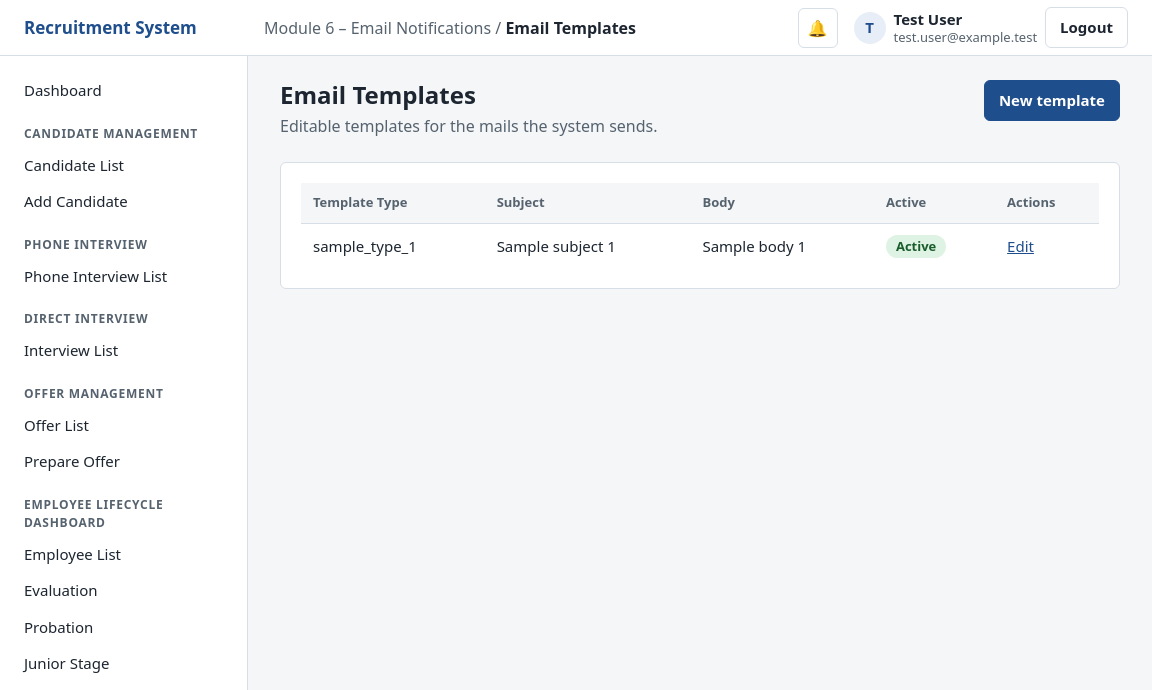
Scenario: email templates › edits an existing template
This screenshot has width=1152, height=690.
Expected: the text "sample_type_1" is shown, [301,224,485,268]
Click the button "Edit" at [1021, 246], box [1007,234,1034,257]
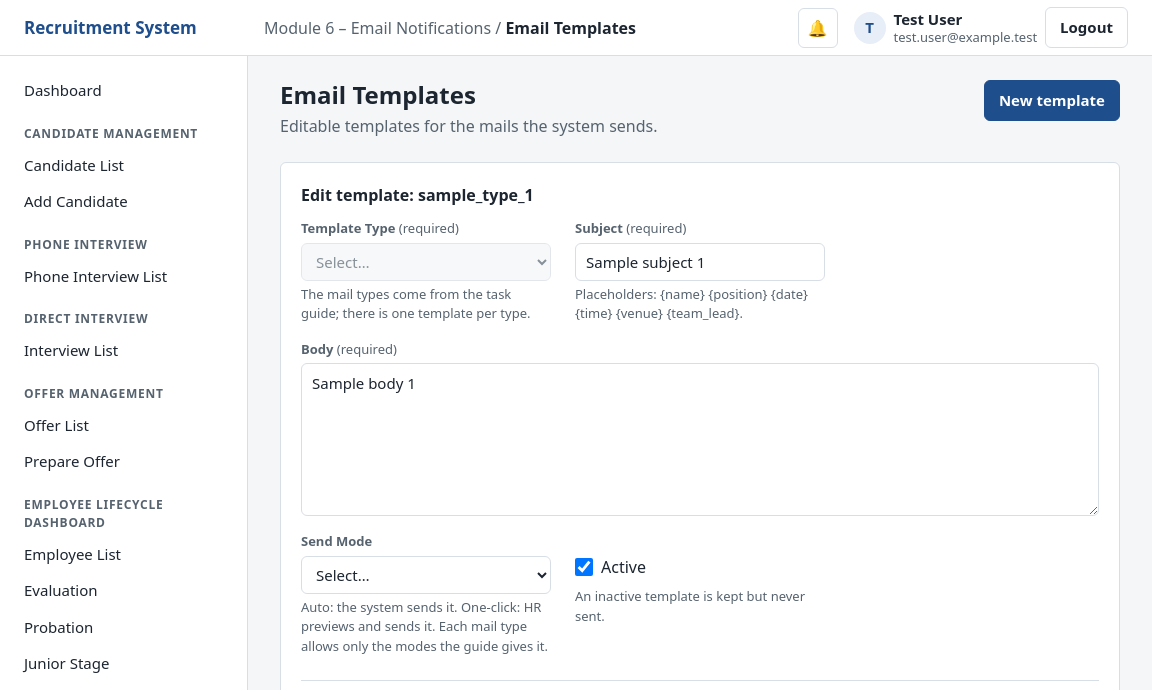
Now the field labelled "Subject (required)" holds "Sample subject 1"
Replace the text in the field labelled "Subject (required)" with "Changed subject" at [700, 262], box [575,242,825,280]
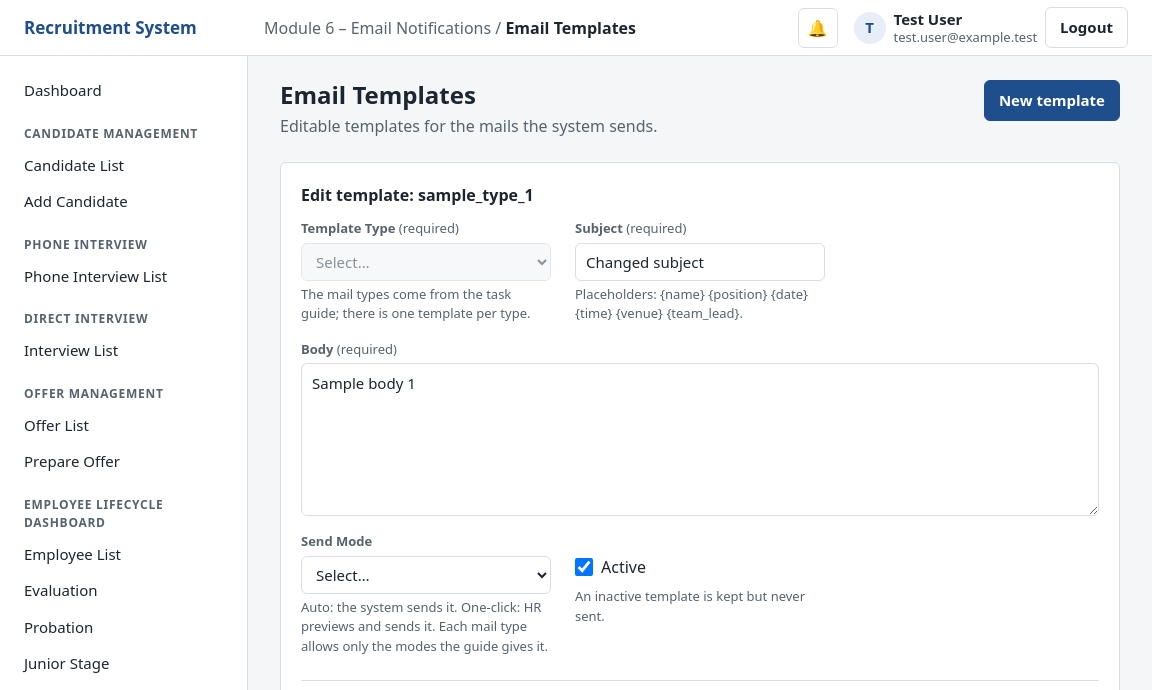
Click the checkbox labelled "Active" at [584, 567], box [575,558,593,576]
(page scrolled)
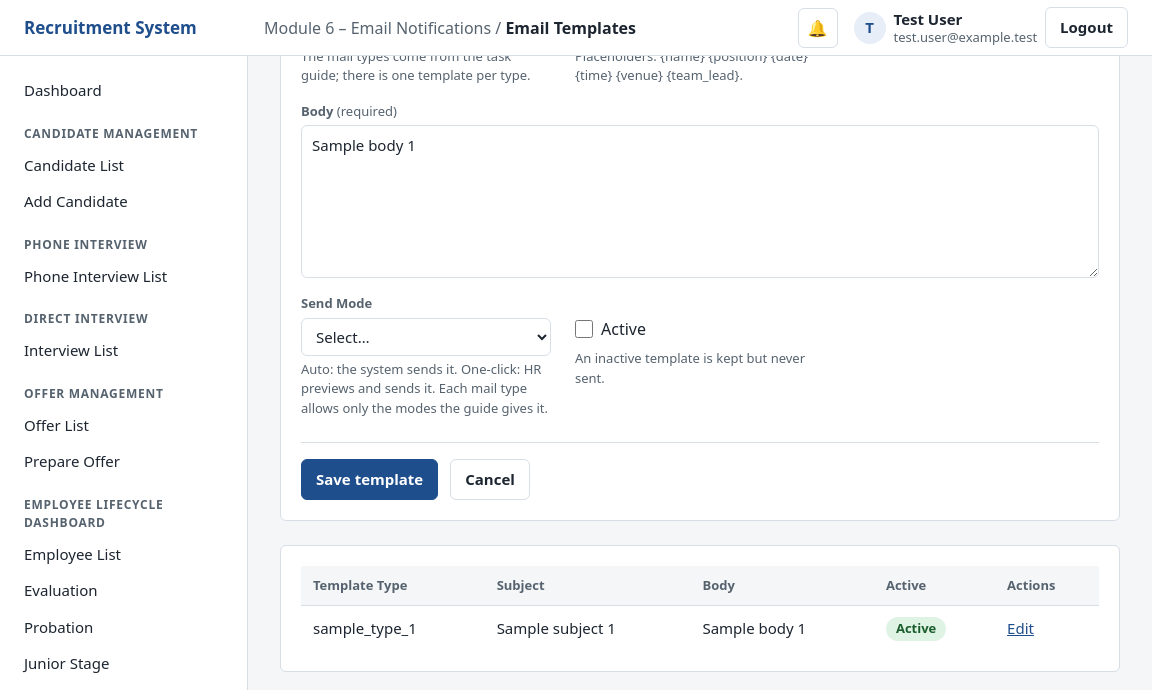
Click the button "Save template" at [370, 479], box [301,459,438,500]
(page scrolled)
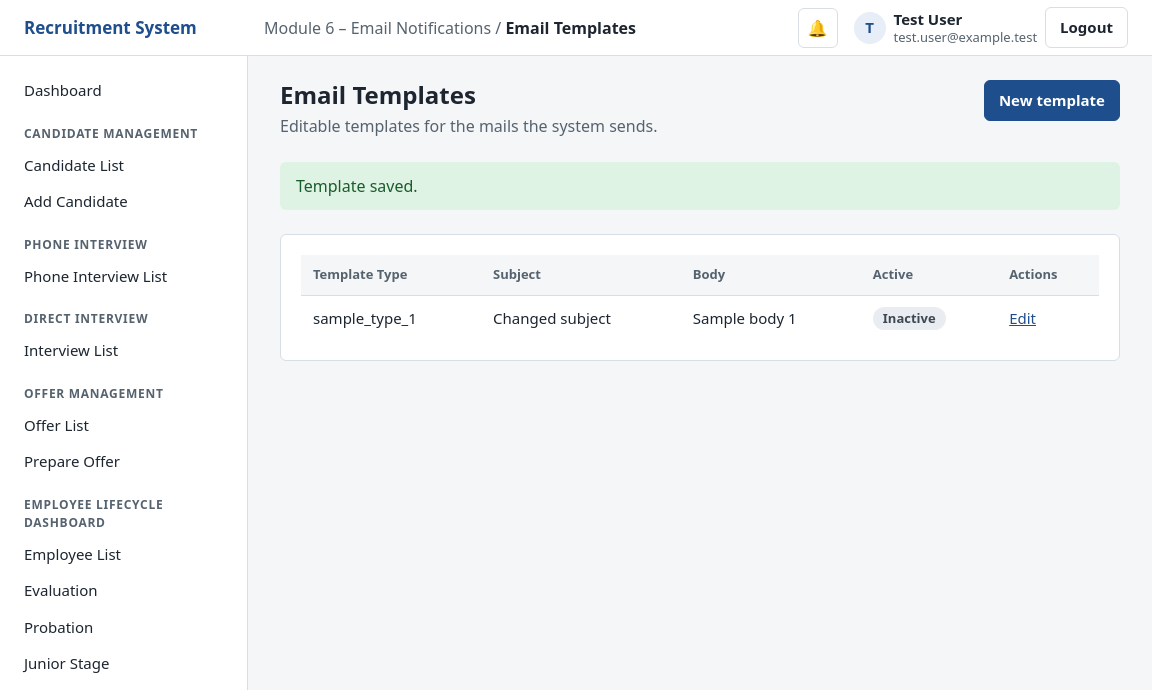
Now the text "Template saved." is shown, box [296,175,418,197]
Now the cell "Changed subject" is shown, box [481,296,681,340]
